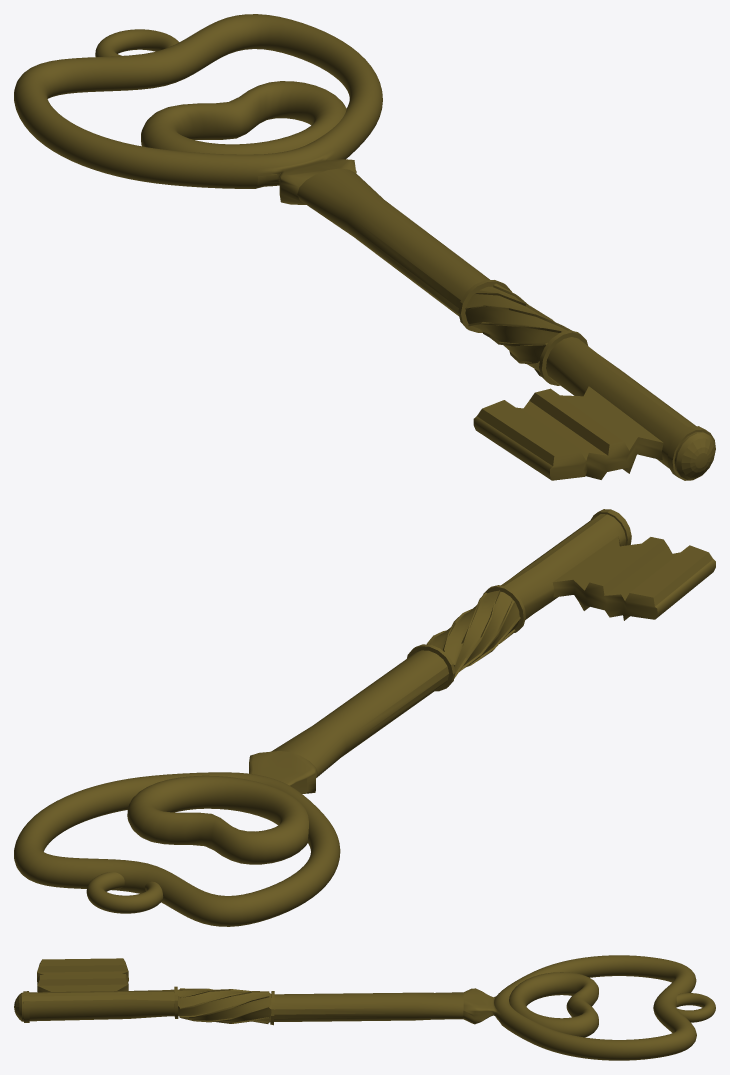
The model's file is key.fbx.
3 views of the same model, one above another, from view 1: azimuth 30°, elevation 25°; view 2: azimuth 150°, elevation 25°; view 3: azimuth 270°, elevation 25° (orthographic). The views are drawn at different scales.
Visible parts, largest first — view 1: pCylinder3; view 2: pCylinder3; view 3: pCylinder3.
Boxes of the visible parts, left/top/right/bottom form: pCylinder3: left=14, top=14, right=715, bottom=480; pCylinder3: left=14, top=509, right=715, bottom=926; pCylinder3: left=14, top=955, right=715, bottom=1060.
Size of the model in its own units: 129 by 22.76 by 412.
